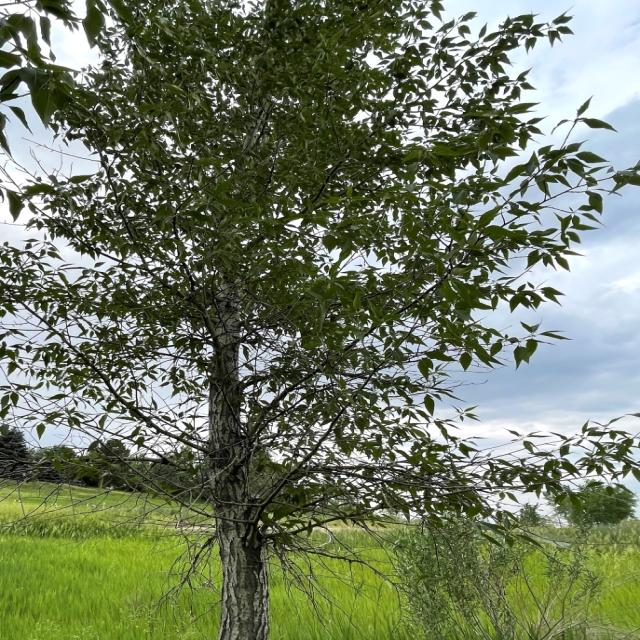Populus angustifolia: (25, 0, 582, 605)
